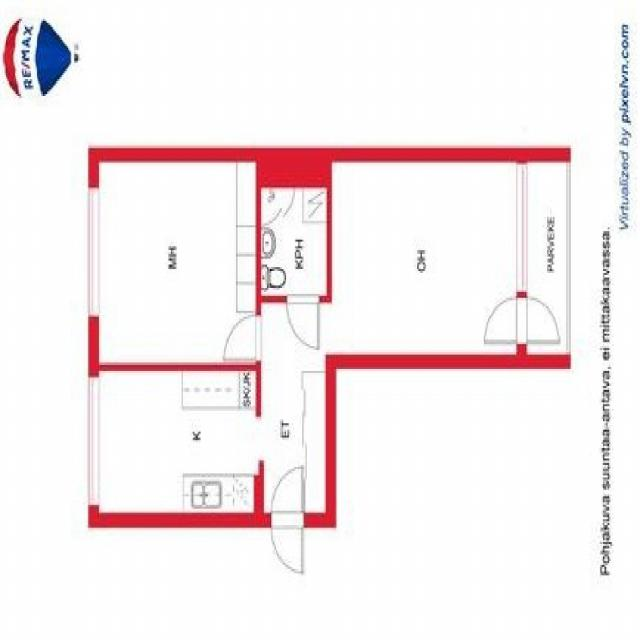door: (516, 299, 558, 344), (485, 299, 527, 344), (272, 472, 302, 528), (272, 515, 302, 570), (286, 297, 318, 348), (226, 316, 261, 361)
